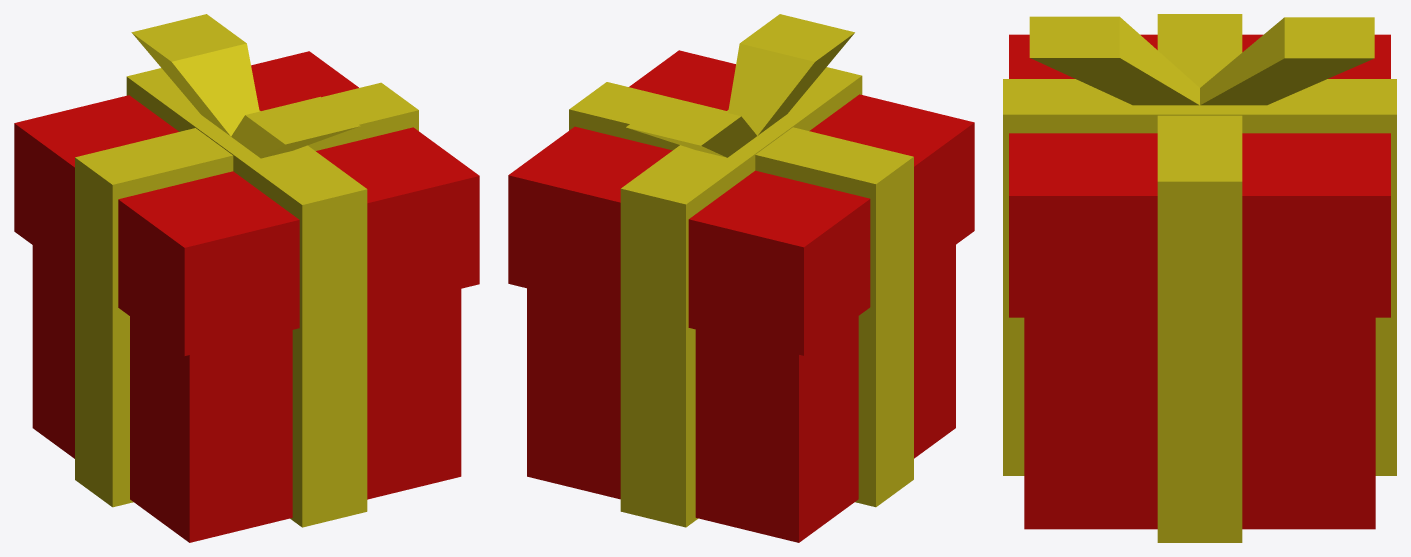
Rendered from REDP.glb.
The picture shows the model from 3 angles, left to right: view 1: azimuth 30°, elevation 25°; view 2: azimuth 150°, elevation 25°; view 3: azimuth 270°, elevation 25°; orthographic projection. The views are drawn at different scales.
Parts seen in each view (by area): view 1: Prezent 1.1; view 2: Prezent 1.1; view 3: Prezent 1.1.
Boxes of the visible parts, bbox=[...] form: Prezent 1.1: bbox=[14, 14, 479, 542]; Prezent 1.1: bbox=[508, 14, 974, 542]; Prezent 1.1: bbox=[1003, 14, 1396, 542].
Size of the model in its own units: 226 by 265 by 224.
